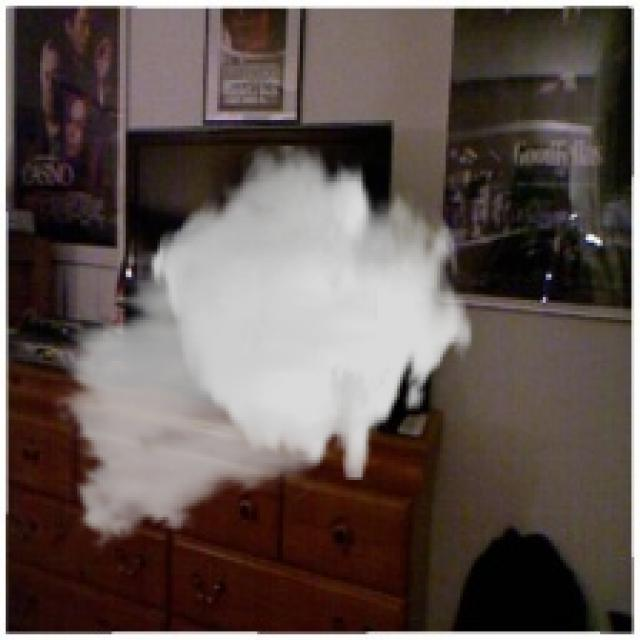smoke: (52, 146, 474, 557)
